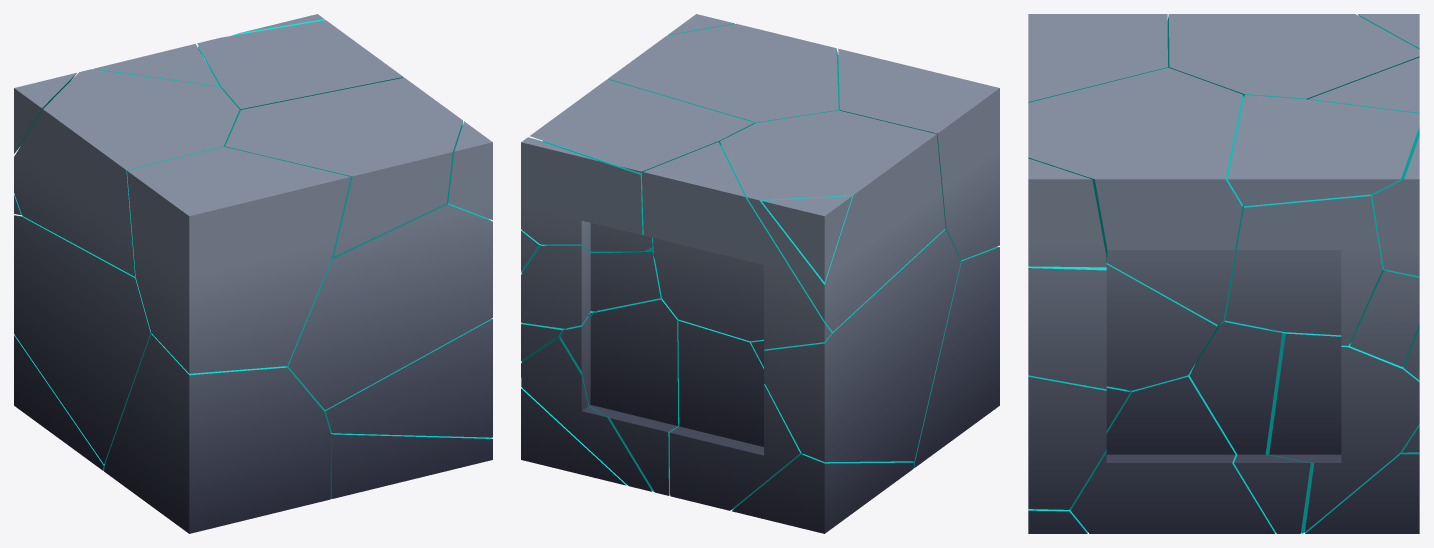
The model's file is Damaged_01.fbx.
3 views of the same model, side by side, from view 1: azimuth 30°, elevation 25°; view 2: azimuth 150°, elevation 25°; view 3: azimuth 270°, elevation 25° (orthographic). The views are drawn at different scales.
Parts seen in each view (by area): view 1: Cube_intacte_cell.001, Cube_intacte_cell, Cube_intacte_cell.023, Cube_intacte_cell.018, Cube_intacte_cell.007, Cube_intacte_cell.002, Cube_intacte_cell.006, Cube_intacte_cell.012, Cube_intacte_cell.014, Cube_intacte_cell.009, Cube_intacte_cell.015, Cube_intacte_cell.003 (+1 smaller); view 2: Cube_intacte_cell.018, Cube_intacte_cell.002, Cube_intacte_cell.003, Cube_intacte_cell.017, Cube_intacte_cell.001, Cube_intacte_cell.007, Cube_intacte_cell.016, Cube_intacte_cell.020, Cube_intacte_cell.012, Cube_intacte_cell, Cube_intacte_cell.004, Cube_intacte_cell.009 (+5 smaller); view 3: Cube_intacte_cell.007, Cube_intacte_cell.022, Cube_intacte_cell.021, Cube_intacte_cell.019, Cube_intacte_cell.023, Cube_intacte_cell.012, Cube_intacte_cell.018, Cube_intacte_cell.008, Cube_intacte_cell.001, Cube_intacte_cell.006, Cube_intacte_cell.015, Cube_intacte_cell.013 (+6 smaller).
Boxes of the visible parts, x1,y1,x2,y2 form: Cube_intacte_cell.001: [127, 147, 350, 373]; Cube_intacte_cell: [104, 333, 330, 533]; Cube_intacte_cell.023: [286, 202, 492, 409]; Cube_intacte_cell.018: [14, 69, 239, 276]; Cube_intacte_cell.007: [225, 77, 462, 257]; Cube_intacte_cell.002: [14, 215, 151, 464]; Cube_intacte_cell.006: [323, 318, 492, 437]; Cube_intacte_cell.012: [197, 20, 403, 111]; Cube_intacte_cell.014: [330, 433, 492, 498]; Cube_intacte_cell.009: [14, 335, 104, 470]; Cube_intacte_cell.015: [448, 121, 492, 219]; Cube_intacte_cell.003: [14, 44, 219, 215]; Cube_intacte_cell.018: [720, 110, 945, 331]; Cube_intacte_cell.002: [751, 229, 960, 462]; Cube_intacte_cell.003: [642, 142, 831, 349]; Cube_intacte_cell.017: [669, 320, 803, 510]; Cube_intacte_cell.001: [838, 48, 999, 260]; Cube_intacte_cell.007: [608, 23, 839, 123]; Cube_intacte_cell.016: [560, 297, 679, 495]; Cube_intacte_cell.020: [521, 137, 652, 252]; Cube_intacte_cell.012: [530, 79, 754, 173]; Cube_intacte_cell: [912, 246, 999, 467]; Cube_intacte_cell.004: [521, 246, 661, 328]; Cube_intacte_cell.009: [732, 454, 914, 533]; Cube_intacte_cell.007: [1028, 67, 1243, 324]; Cube_intacte_cell.022: [1070, 363, 1275, 533]; Cube_intacte_cell.021: [1206, 305, 1419, 533]; Cube_intacte_cell.019: [1225, 194, 1387, 345]; Cube_intacte_cell.023: [1028, 263, 1217, 390]; Cube_intacte_cell.012: [1227, 95, 1419, 206]; Cube_intacte_cell.018: [1167, 14, 1419, 99]; Cube_intacte_cell.008: [1189, 318, 1310, 533]; Cube_intacte_cell.001: [1028, 14, 1167, 102]; Cube_intacte_cell.006: [1028, 375, 1130, 509]; Cube_intacte_cell.015: [1028, 158, 1106, 267]; Cube_intacte_cell.013: [1304, 454, 1419, 533].
Bounding box in the file's own units: 100 × 100 × 100.
